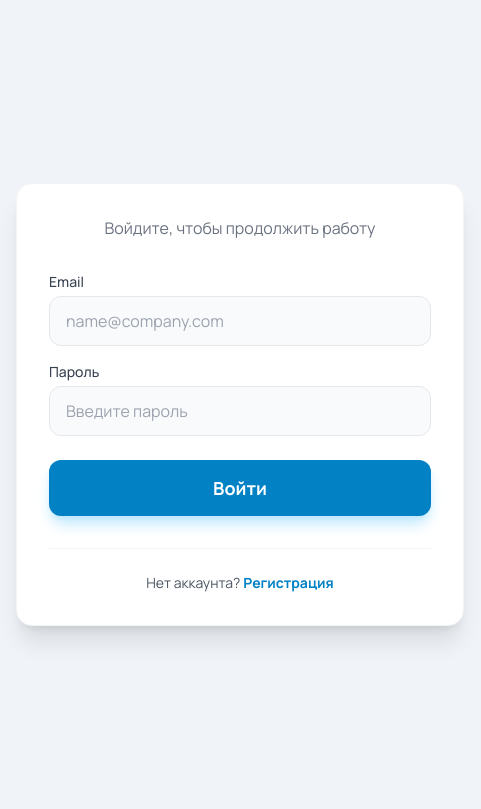
Test: App › can switch between login and register views
Expected: the text "Войдите, чтобы продолжить работу" is shown, x1=104 y1=216 x2=376 y2=238
Switch to register
Click the button "Регистрация".
click(288, 582)  # box x1=243 y1=572 x2=334 y2=592
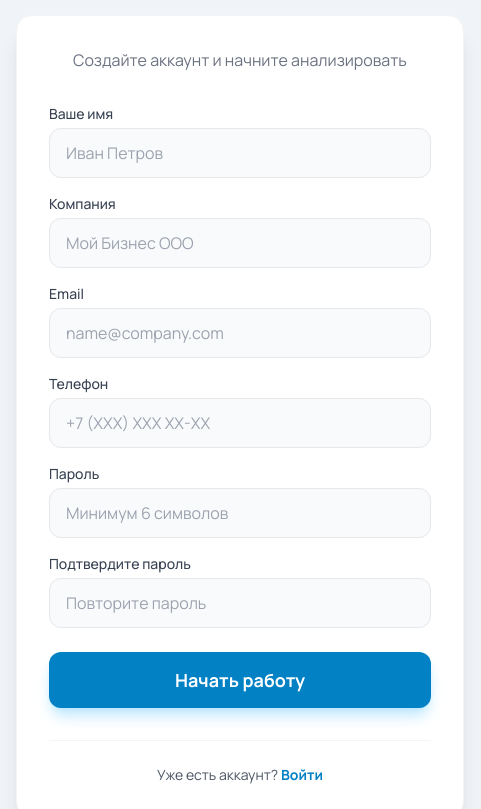
Now the text "Создайте аккаунт и начните анализировать" is shown, box x1=49 y1=48 x2=431 y2=72
Switch back to login
Click the button "Войти".
click(302, 775)  # box x1=281 y1=765 x2=323 y2=785
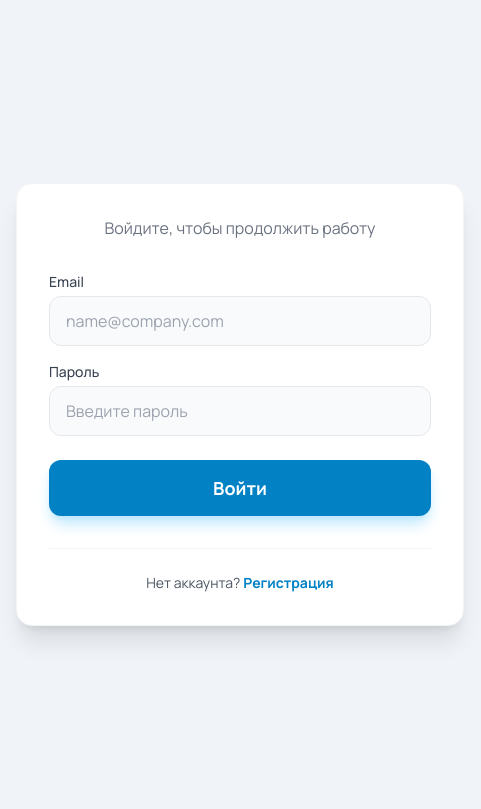
Now the text "Войдите, чтобы продолжить работу" is shown, box x1=104 y1=216 x2=376 y2=238
